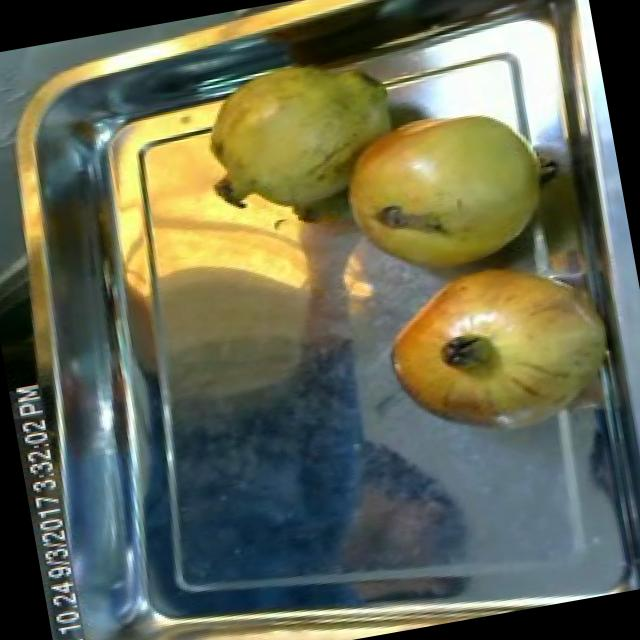fruit: (356, 236, 638, 467), (315, 76, 583, 297)
